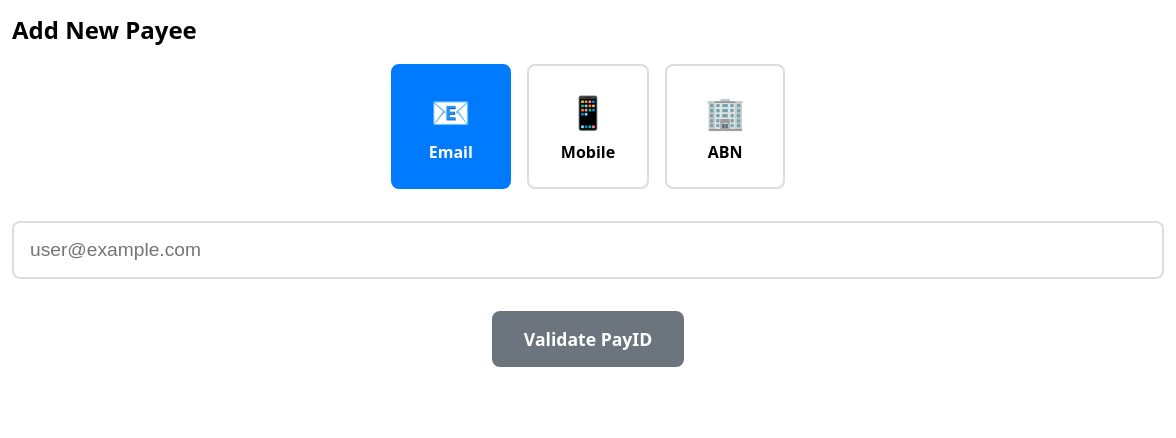
Test: AddNewPayee › form validation › should validate mobile number format on blur
The width and height of the screenshot is (1176, 438).
Step 1. Click the button "📱 Mobile" → (588, 126), box [527, 64, 649, 189]
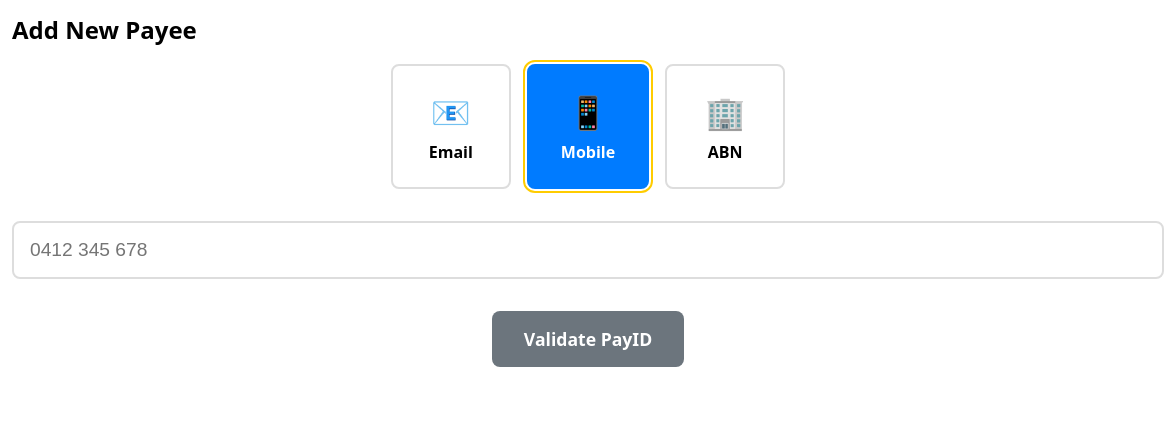
Step 2. Type "123" into the field with placeholder "0412 345 678" → (588, 250), box [12, 221, 1164, 279]
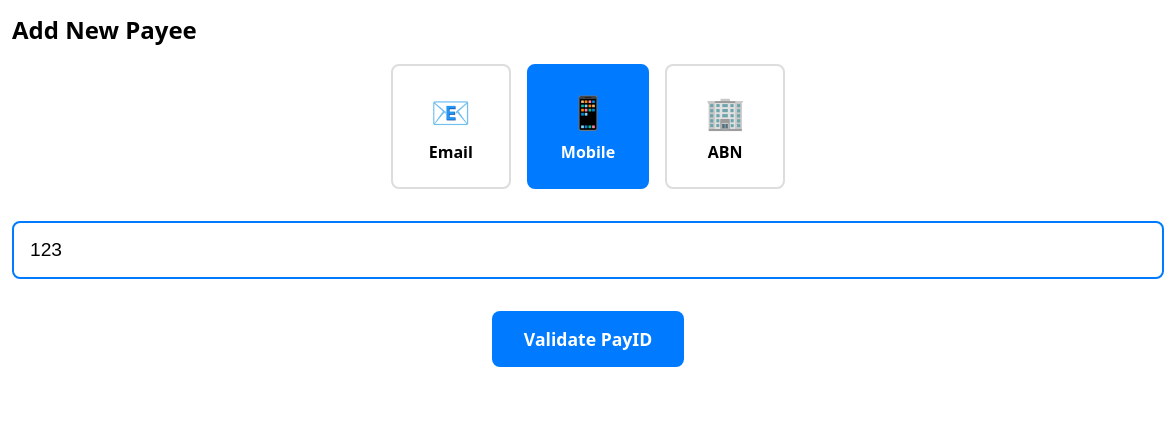
Step 3. Press Tab
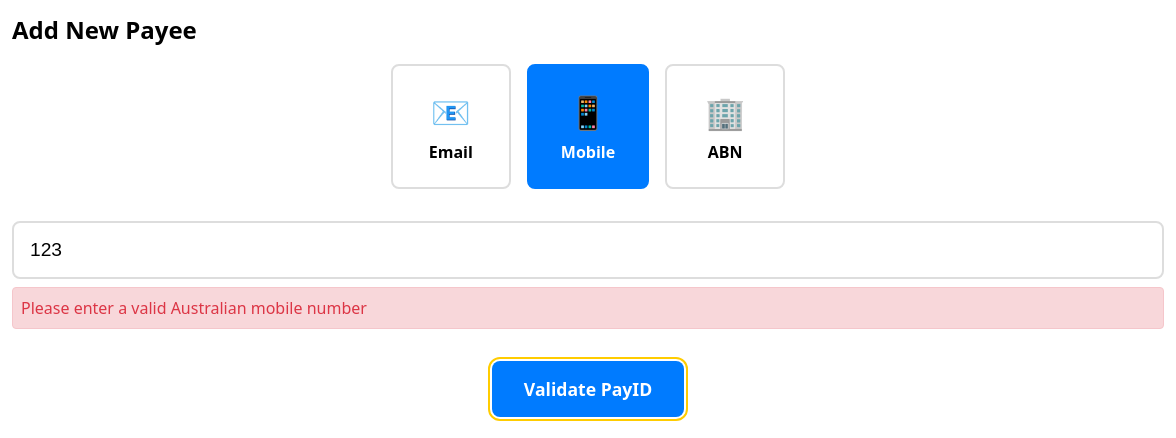
Expected: the text "Please enter a valid Australian mobile number" is shown, [12, 287, 1164, 329]
